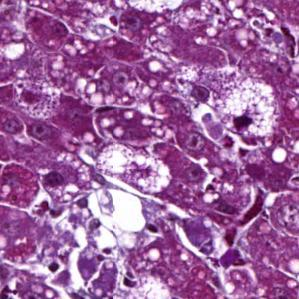ballooning: (94, 141, 175, 197)
